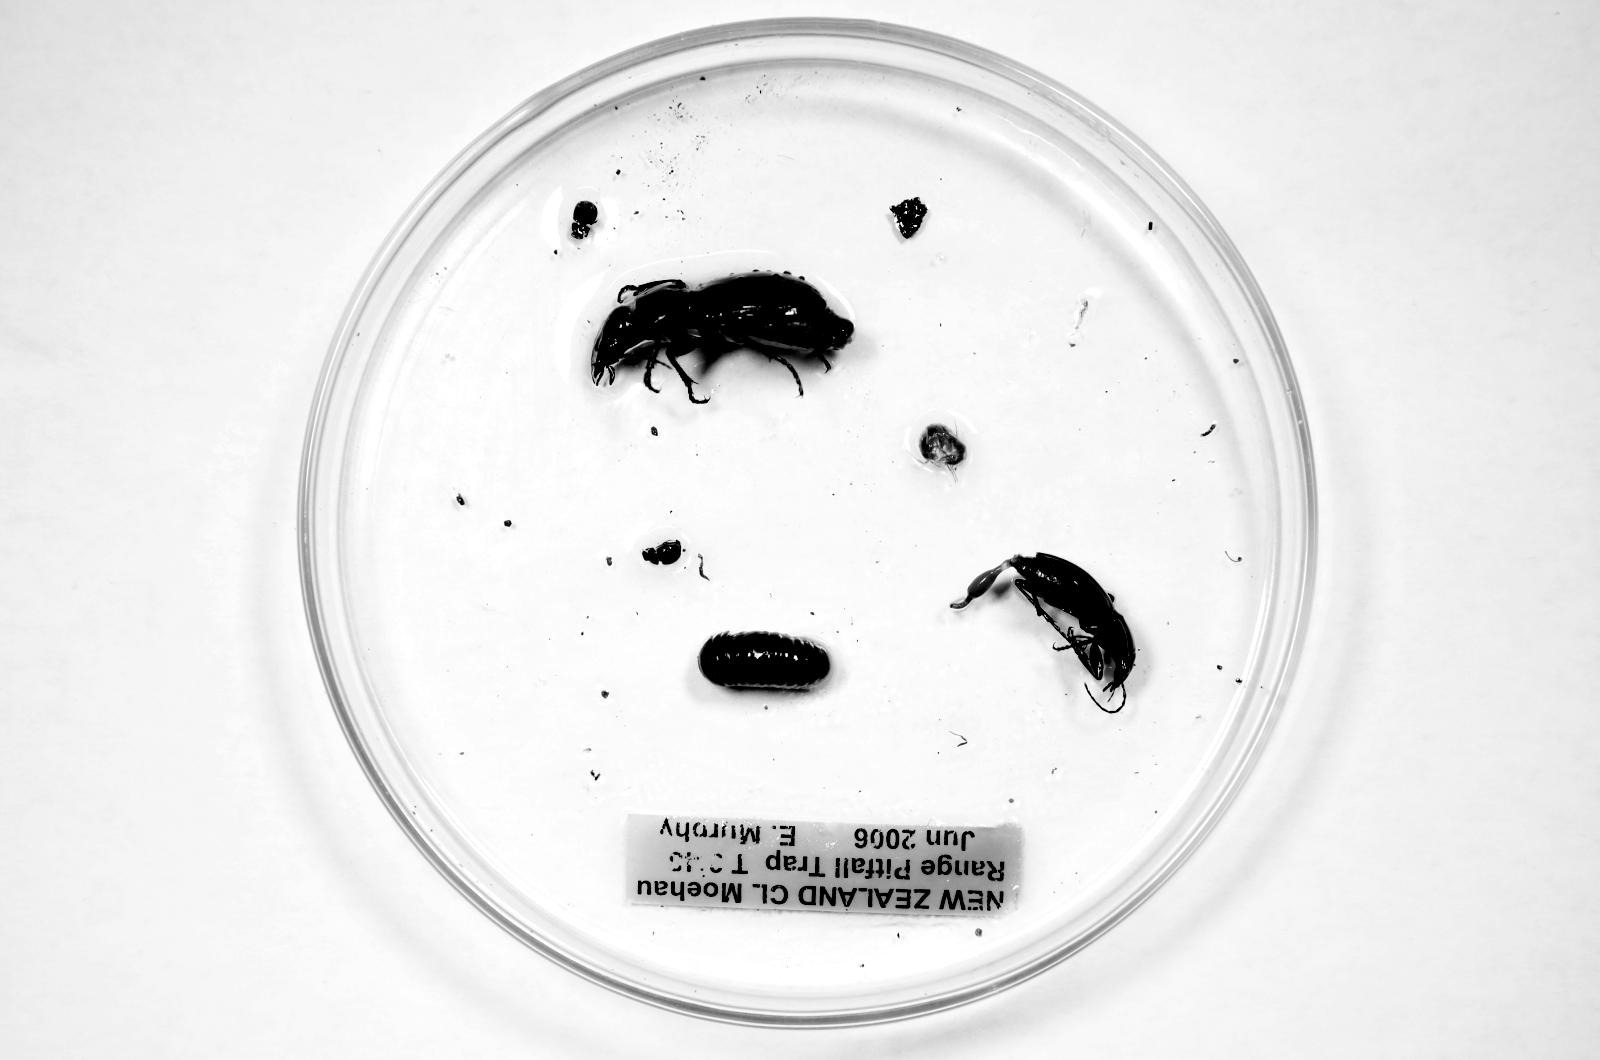amphipoda: (919, 424, 966, 472)
carabidae: (592, 271, 854, 403), (996, 552, 1135, 691)
coleoptera: (642, 539, 684, 565), (571, 201, 598, 239)
isopoda: (699, 632, 830, 690)
